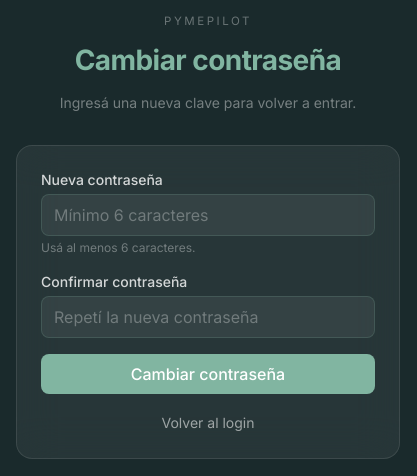
Test: ResetPasswordPage › shows a loading state while updating the password
This screenshot has width=417, height=476.
Type "SecurePass1" into the password field labelled "Nueva contraseña". click: (208, 215)
box: 41,194 -> 375,236
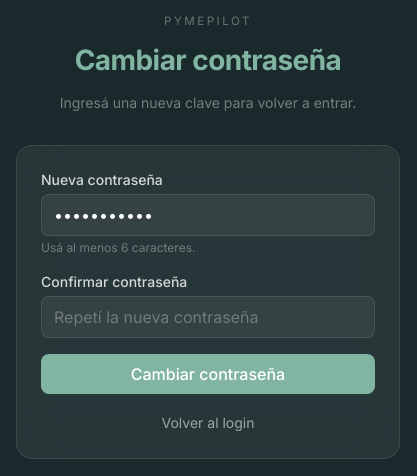
Type "SecurePass1" into the password field labelled "Confirmar contraseña". click: (208, 317)
box: 41,296 -> 375,338
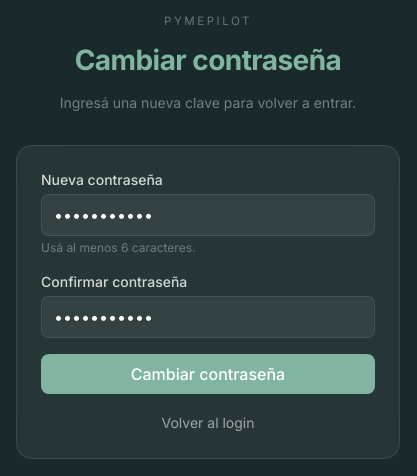
Click the button "Cambiar contraseña". click: (208, 374)
box: 41,354 -> 375,394
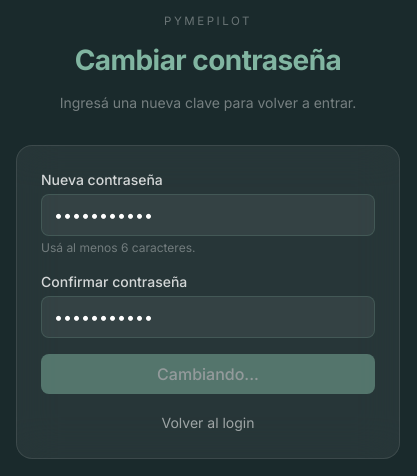
expect the password field labelled "Nueva contraseña" is disabled: met, box 41,194 -> 375,236
expect the button "Cambiando..." is disabled: met, box 41,354 -> 375,394
